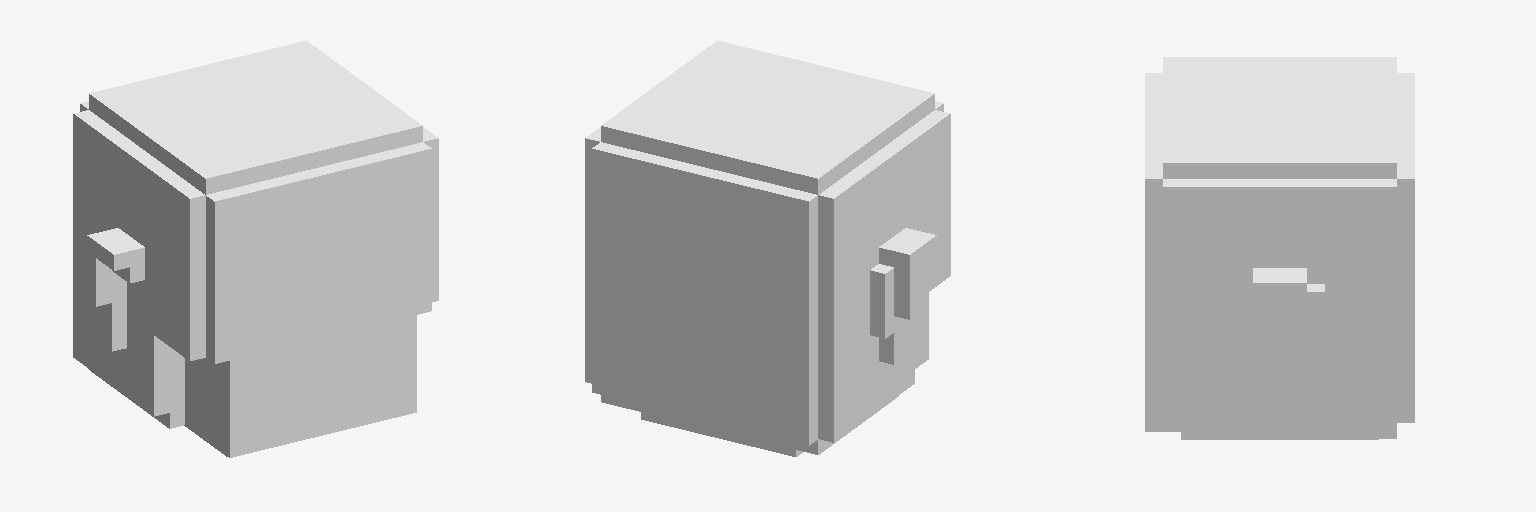
File: BaseHead.obj
3 views of the same model, side by side, from view 1: azimuth 30°, elevation 25°; view 2: azimuth 150°, elevation 25°; view 3: azimuth 270°, elevation 25° (orthographic).
Parts seen in each view (by area): view 1: object 1; view 2: object 1; view 3: object 1.
Boxes of the visible parts, x1,y1,x2,y2 form: object 1: [73, 40, 438, 457]; object 1: [585, 40, 950, 456]; object 1: [1145, 57, 1414, 439].
Size of the model in its own units: 2 by 1.8 by 1.5.